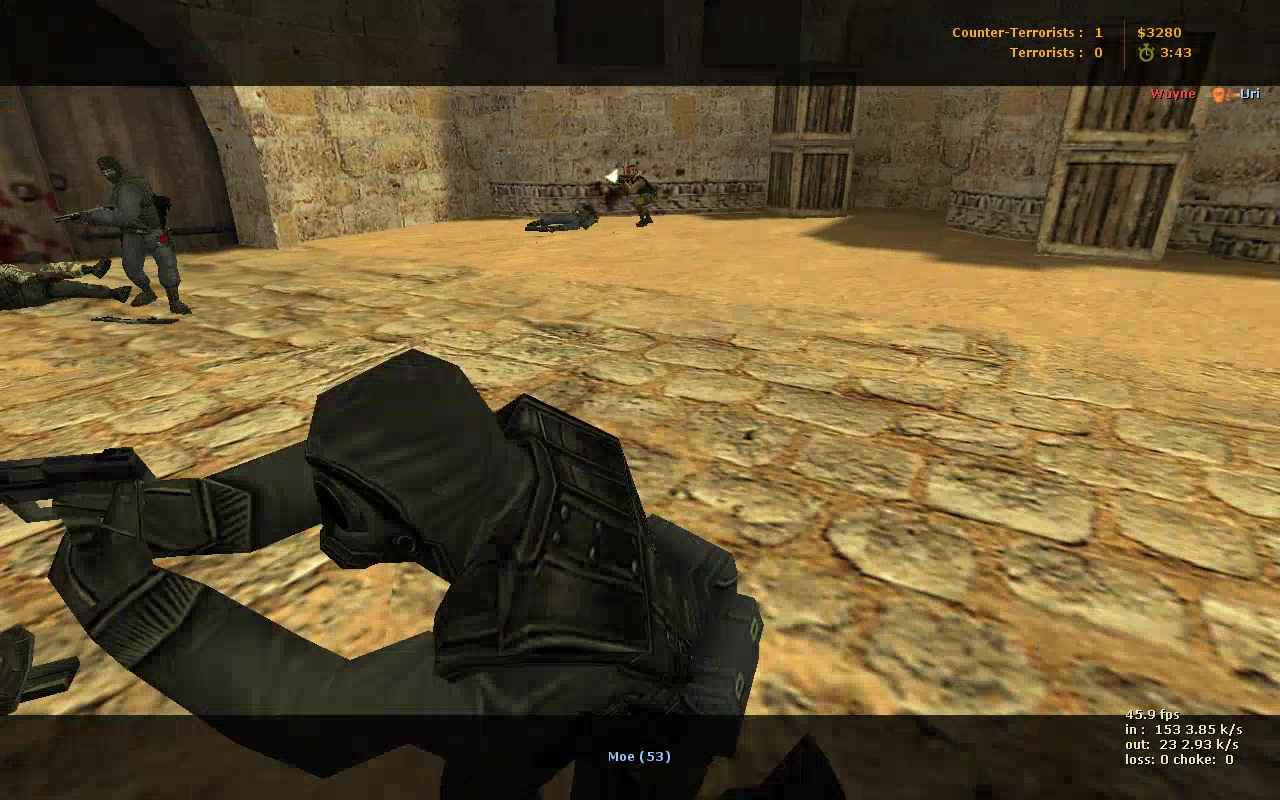ct: (5, 349, 851, 800), (71, 155, 191, 316)
dead: (1, 253, 131, 310), (527, 207, 597, 234)
terr1: (611, 165, 659, 228)
